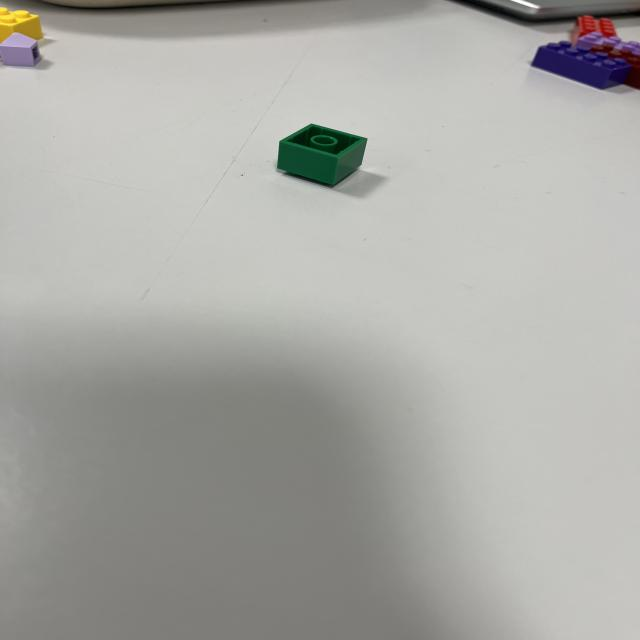C2x2x1: (275, 121, 372, 184)
